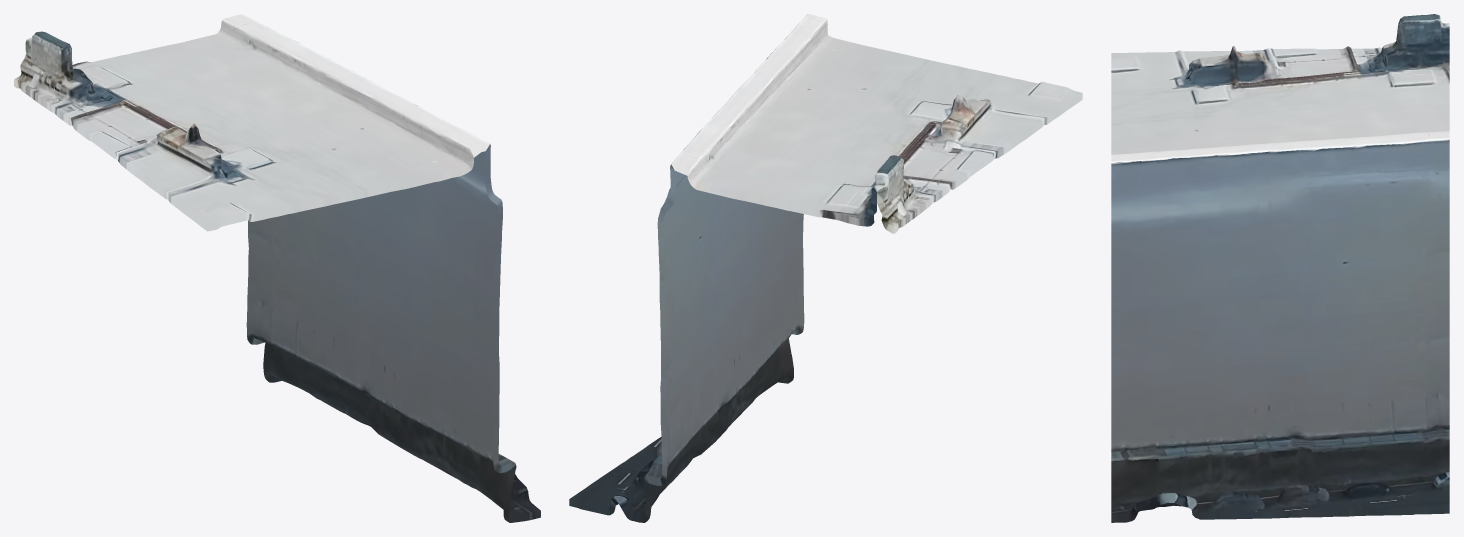
File: z20-167758-405242-h0-yup-uvflip-v3-world.glb
3 renders of one model, left to right at view 1: azimuth 30°, elevation 25°; view 2: azimuth 150°, elevation 25°; view 3: azimuth 270°, elevation 25°, orthographic. The views are drawn at different scales.
Bounding box in the file's own units: 30.16 × 36.84 × 30.32.
Materials: 1 (1 with a texture image).
